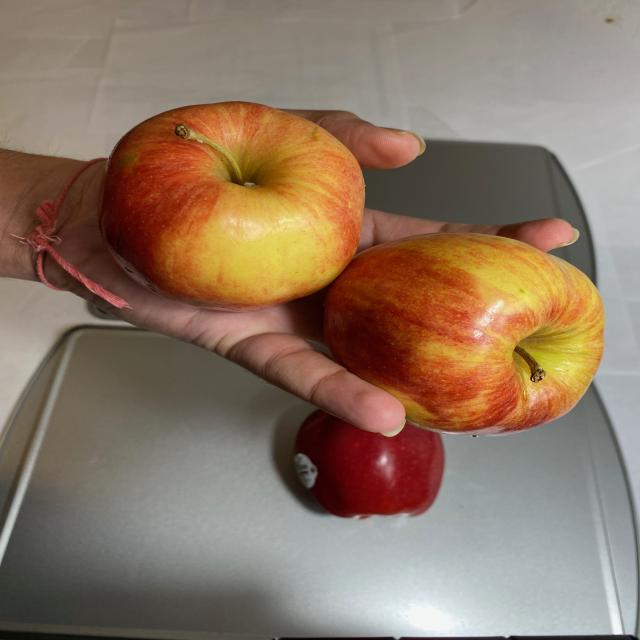apple: (103, 100, 606, 438), (285, 413, 465, 520)
